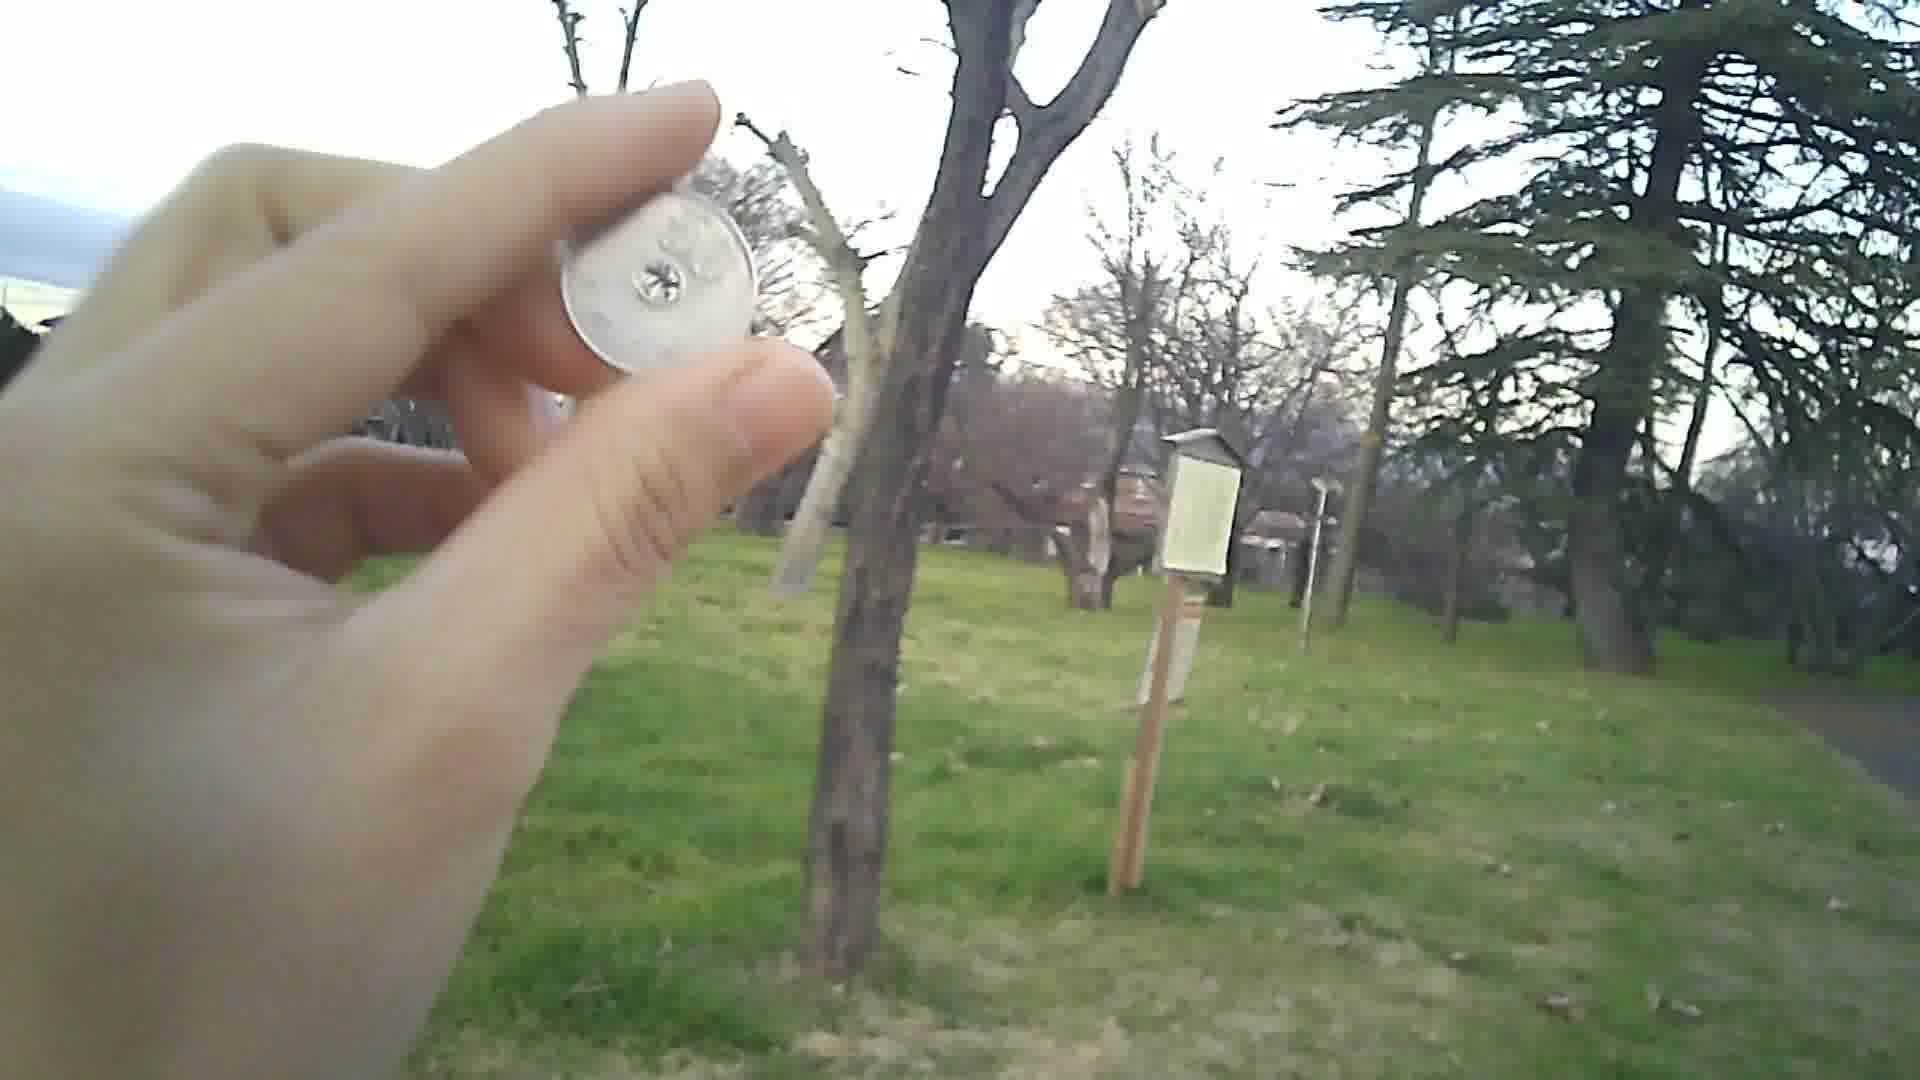50 Yen: (556, 182, 764, 368)
